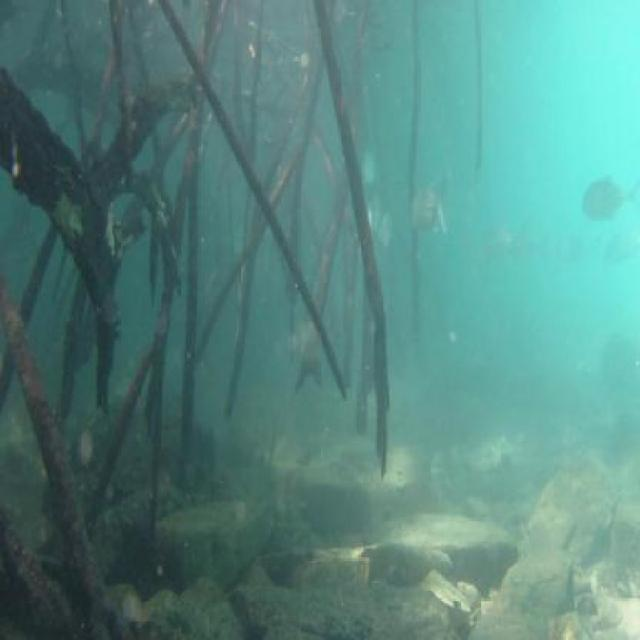Caranx_sexfasciatus_juvenile: (407, 174, 456, 243), (575, 171, 634, 226), (488, 218, 544, 268), (556, 224, 610, 270), (608, 226, 640, 274), (373, 207, 395, 259)
